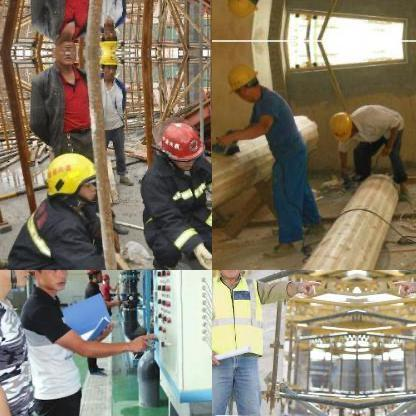Helmet: (42, 146, 104, 202), (154, 117, 202, 167), (223, 60, 264, 102), (324, 108, 360, 142), (22, 270, 71, 292), (222, 0, 265, 20), (98, 51, 118, 80), (98, 22, 118, 50), (83, 270, 103, 282), (102, 270, 110, 284)
